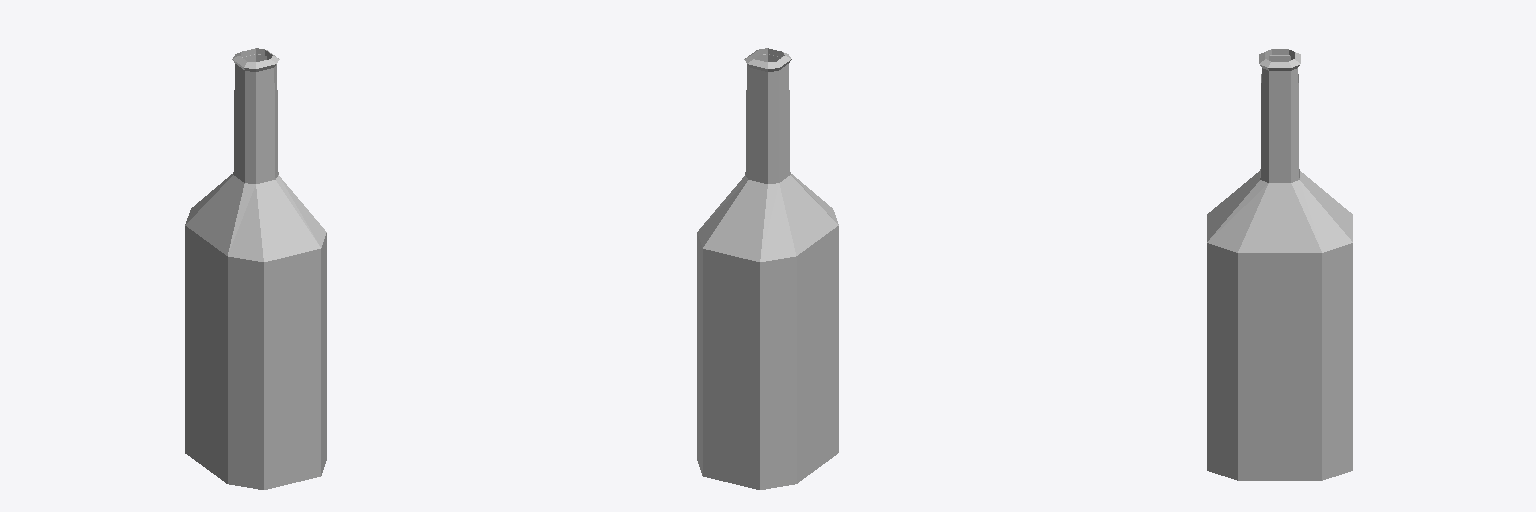
The model's file is prop_botella02.obj.
3 views of the same model, side by side, from view 1: azimuth 30°, elevation 25°; view 2: azimuth 150°, elevation 25°; view 3: azimuth 270°, elevation 25° (orthographic).
Visible parts, largest first — view 1: pCylinder3; view 2: pCylinder3; view 3: pCylinder3.
Part boxes in pixels (x1,y1,x2,y2): pCylinder3: (185,48,326,489); pCylinder3: (697,48,838,489); pCylinder3: (1207,49,1352,480).
Bounding box in the file's own units: 1.94 × 7.48 × 2.48.